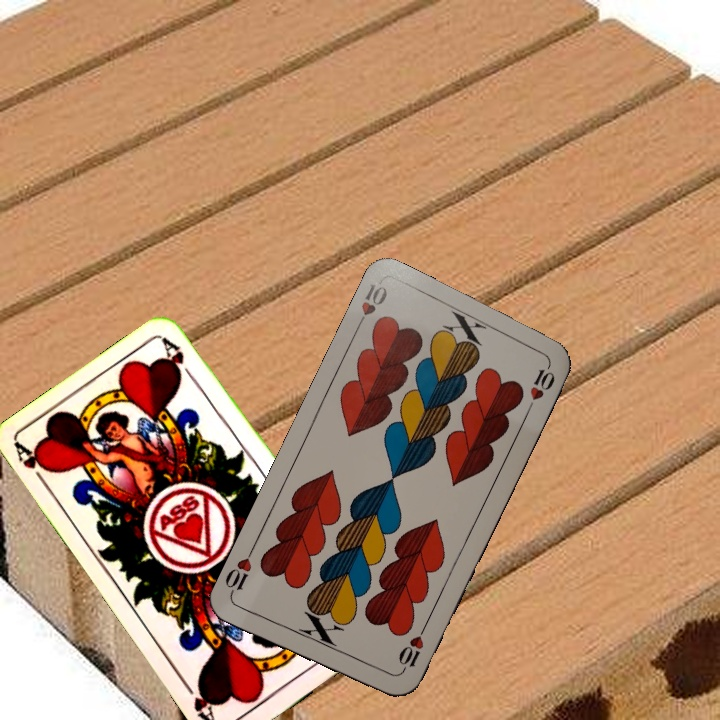H10: (351, 278, 390, 334), (394, 622, 429, 678)
HA: (11, 440, 55, 493)
